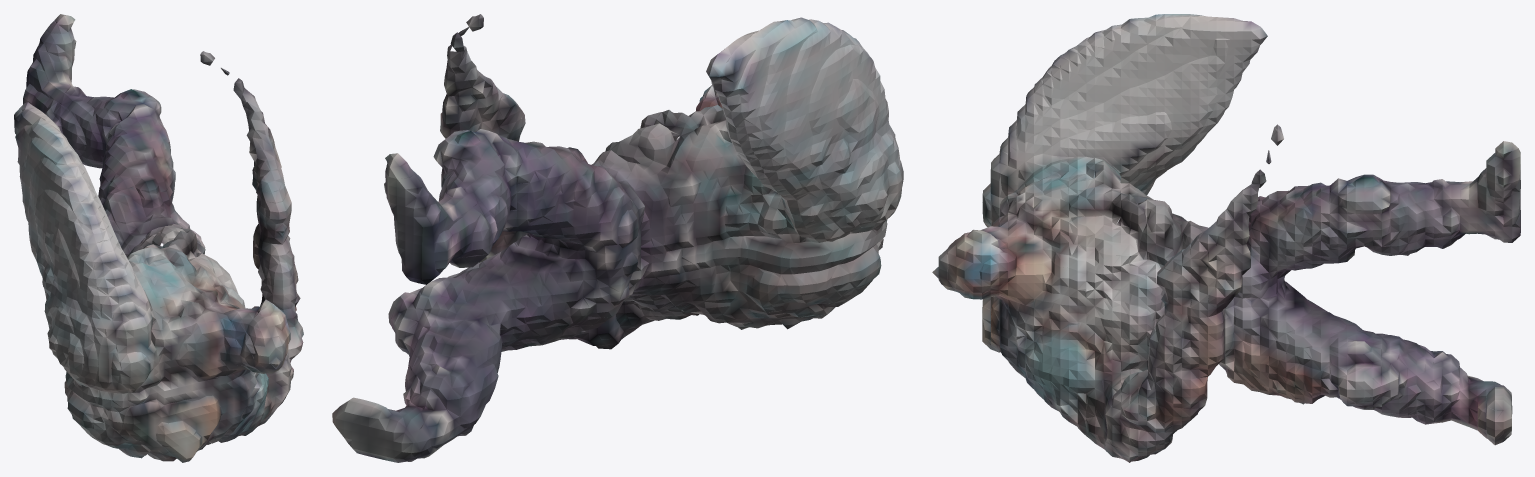
The model's file is modern_warrior_m_0.glb.
The picture shows the model from 3 angles, left to right: view 1: azimuth 30°, elevation 25°; view 2: azimuth 150°, elevation 25°; view 3: azimuth 270°, elevation 25°; orthographic projection. The views are drawn at different scales.
Visible parts, largest first — view 1: world; view 2: world; view 3: world.
Part boxes in pixels (box(x1,y1,x2,y2)): world: box(14, 14, 303, 462); world: box(332, 14, 903, 462); world: box(932, 14, 1520, 462).
Bounding box in the file's own units: 0.5936 × 0.6173 × 0.9281.
